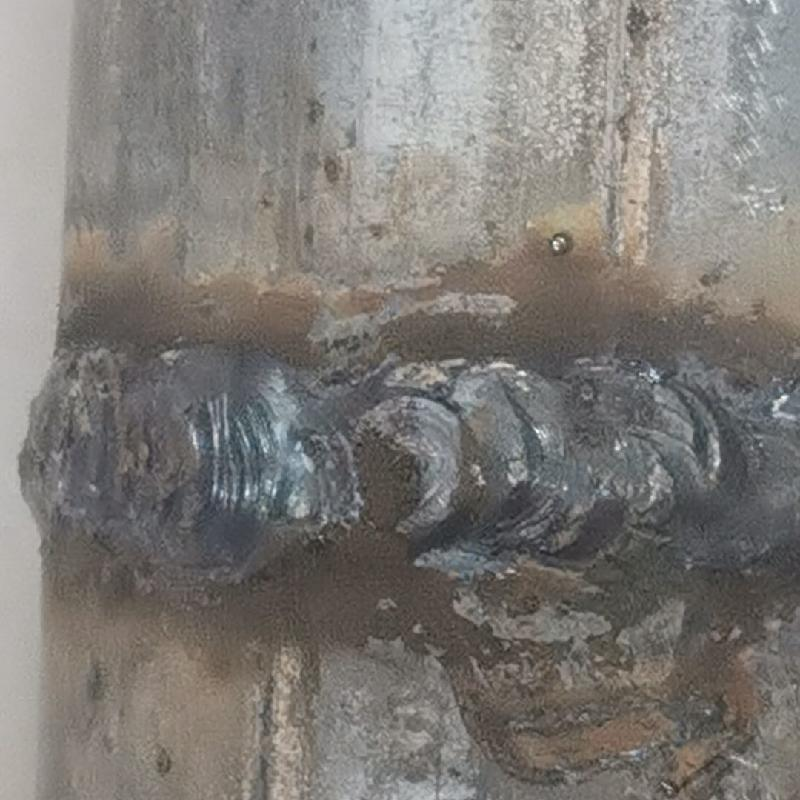good: (8, 326, 799, 554)
